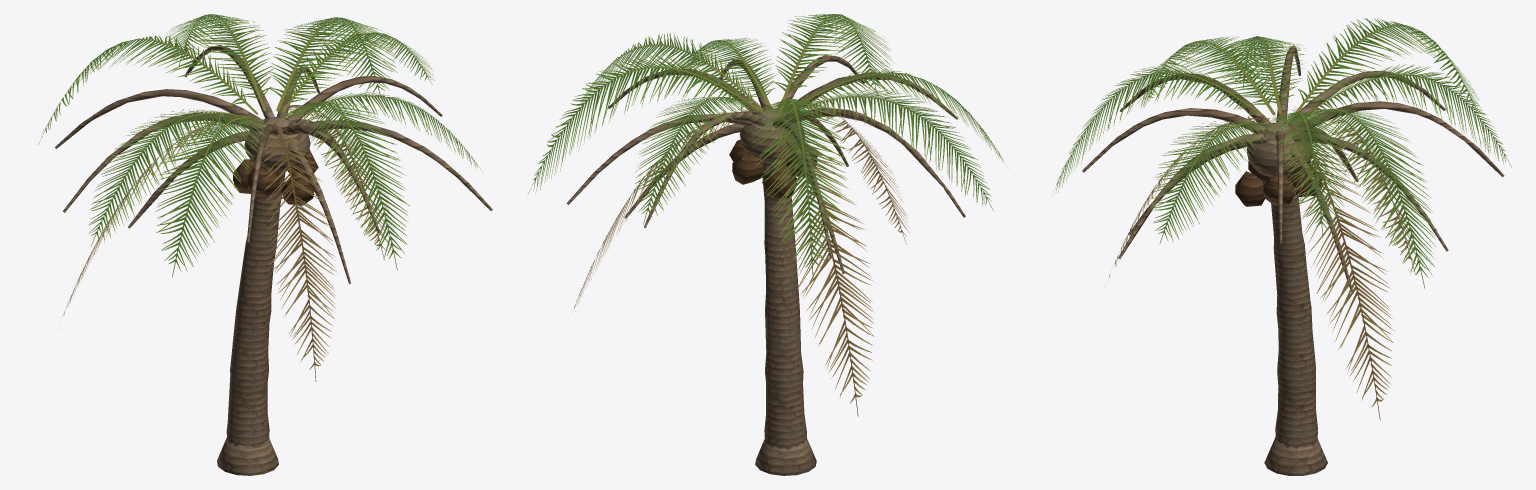
The model's file is palm_tree_young.glb.
The picture shows the model from 3 angles, left to right: view 1: azimuth 30°, elevation 25°; view 2: azimuth 150°, elevation 25°; view 3: azimuth 270°, elevation 25°; orthographic projection. The views are drawn at different scales.
Visible parts, largest first — view 1: palm_tree_young_fronds, palm_tree_young_Bark_Palm, palm_tree_young_fronds_dry, palm_tree_young_Coconut; view 2: palm_tree_young_fronds, palm_tree_young_Bark_Palm, palm_tree_young_fronds_dry, palm_tree_young_Coconut; view 3: palm_tree_young_fronds, palm_tree_young_Bark_Palm, palm_tree_young_fronds_dry, palm_tree_young_Coconut.
Part boxes in pixels (x1,y1,x2,y2): palm_tree_young_fronds: (38,14,480,277); palm_tree_young_Bark_Palm: (55,45,492,475); palm_tree_young_fronds_dry: (63,105,394,381); palm_tree_young_Coconut: (233,149,318,205); palm_tree_young_fronds: (528,14,1006,280); palm_tree_young_Bark_Palm: (566,55,965,475); palm_tree_young_fronds_dry: (574,103,909,416); palm_tree_young_Coconut: (729,139,817,198); palm_tree_young_fronds: (1051,18,1511,288); palm_tree_young_Bark_Palm: (1082,45,1504,475); palm_tree_young_fronds_dry: (1109,107,1423,420); palm_tree_young_Coconut: (1235,161,1322,206).
Size of the model in its own units: 4.39 by 4.02 by 4.24.
4 materials, 4 textured.
